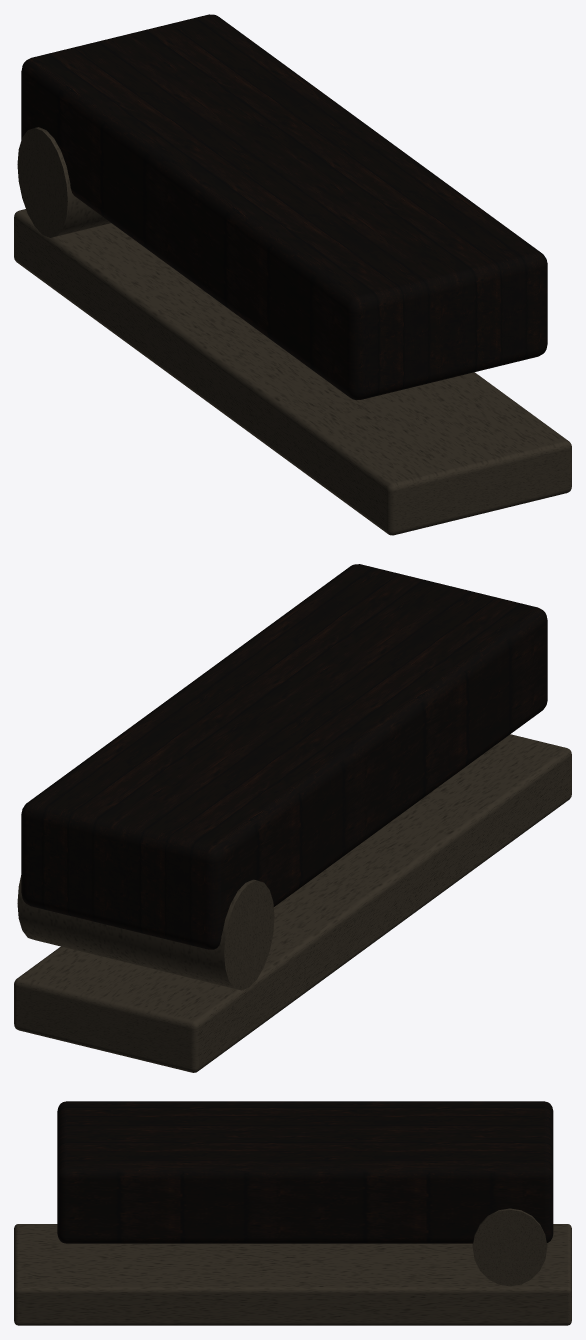
The picture shows the model from 3 angles, top to bottom: view 1: azimuth 30°, elevation 25°; view 2: azimuth 150°, elevation 25°; view 3: azimuth 270°, elevation 25°; orthographic projection. The views are drawn at different scales.
Parts seen in each view (by area): view 1: a-stapler; view 2: a-stapler; view 3: a-stapler.
Boxes of the visible parts, left/top/right/bottom form: a-stapler: left=14, top=14, right=571, bottom=535; a-stapler: left=14, top=564, right=571, bottom=1072; a-stapler: left=14, top=1101, right=571, bottom=1325.
Bounding box in the file's own units: 0.06 × 0.06 × 0.19.
2 materials, 2 textured.
